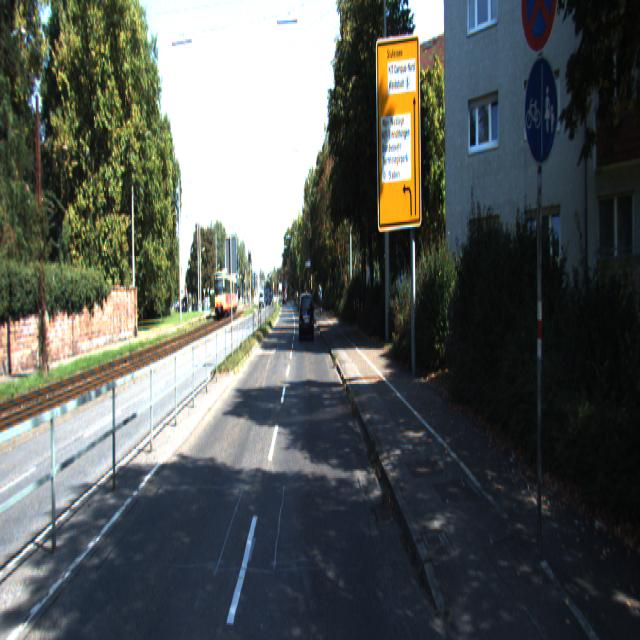Car: (214, 272, 238, 320), (299, 295, 315, 345)
